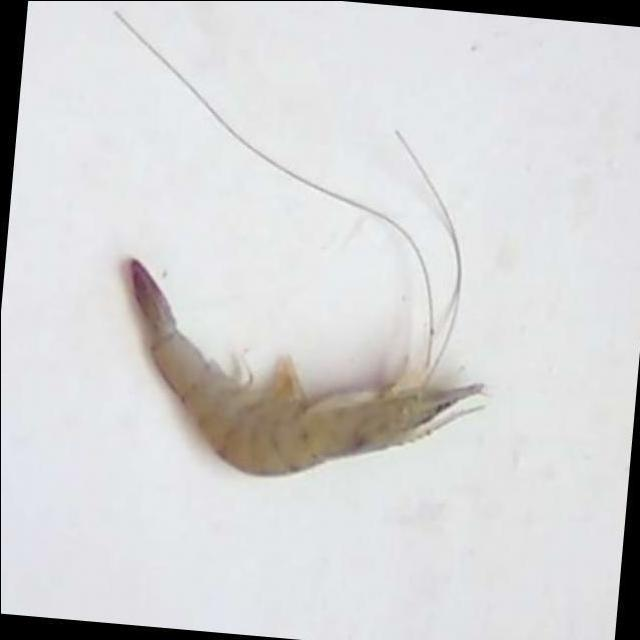shrimp: (127, 260, 482, 475)
